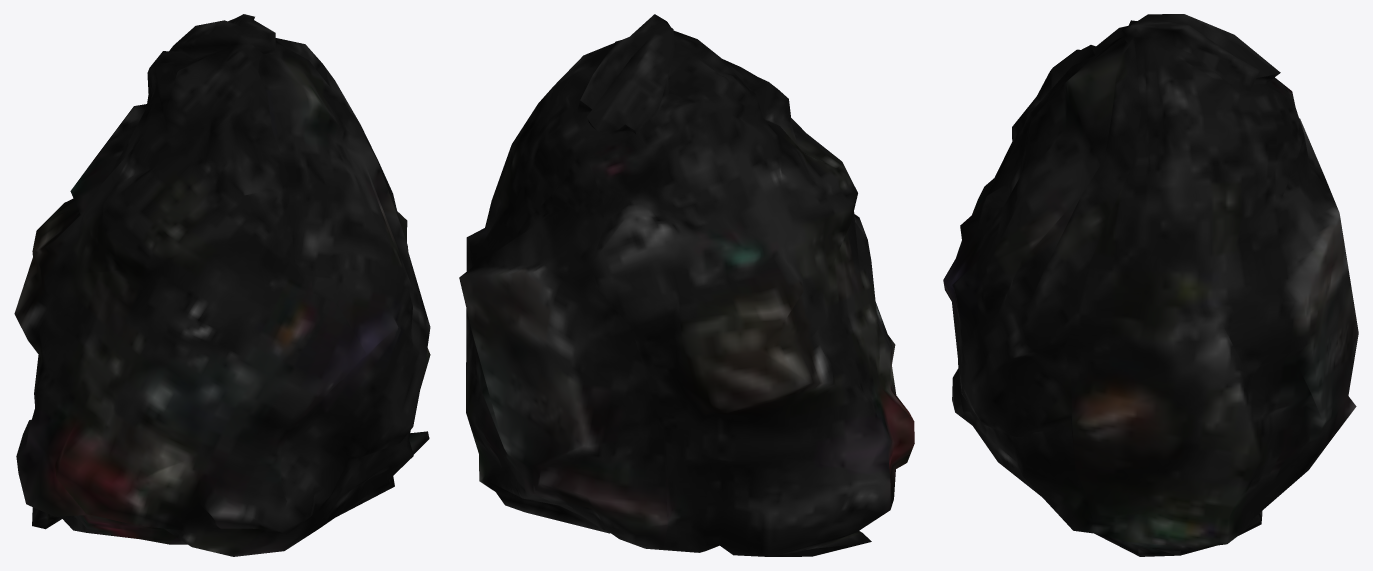
Rendered from trashbag.glb.
3 views of the same model, side by side, from view 1: azimuth 30°, elevation 25°; view 2: azimuth 150°, elevation 25°; view 3: azimuth 270°, elevation 25° (orthographic). The views are drawn at different scales.
Parts seen in each view (by area): view 1: trashbag; view 2: trashbag; view 3: trashbag.
Boxes of the visible parts, x1,y1,x2,y2 form: trashbag: (14,14,430,556); trashbag: (459,14,914,556); trashbag: (943,14,1358,556).
Size of the model in its own units: 0.5237 by 0.5684 by 0.4629.
Materials: 1 (1 with a texture image).
